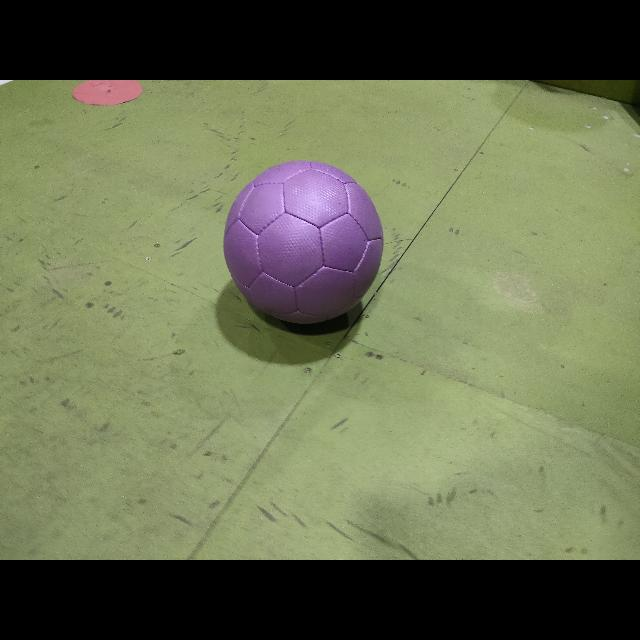P: (224, 161, 382, 323)
R: (72, 80, 142, 104)
